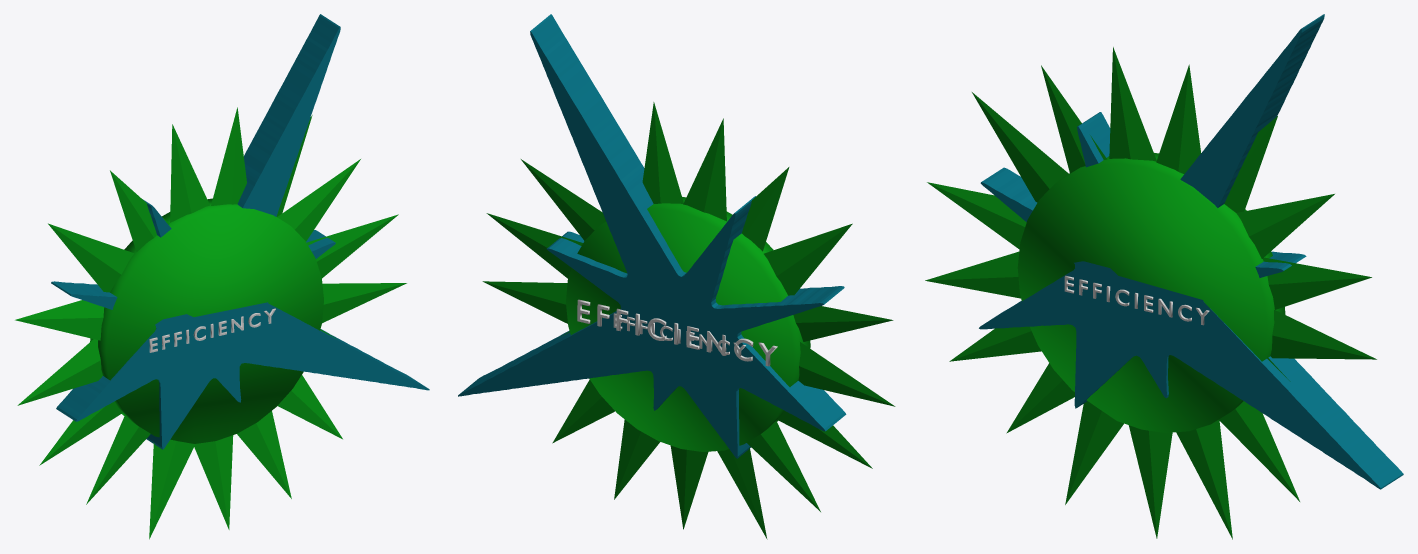
The picture shows the model from 3 angles, left to right: view 1: azimuth 30°, elevation 25°; view 2: azimuth 150°, elevation 25°; view 3: azimuth 330°, elevation 25°; orthographic projection. The views are drawn at different scales.
Parts seen in each view (by area): view 1: Circle, Plane, Efficiency Spark; view 2: Circle, Plane, Efficiency Spark.001, Efficiency Spark.002; view 3: Circle, Plane, Efficiency Spark.
Boxes of the visible parts, x1,y1,x2,y2 form: Circle: (15, 107, 406, 539); Plane: (51, 14, 429, 449); Efficiency Spark: (149, 308, 275, 352); Circle: (482, 102, 895, 539); Plane: (458, 14, 846, 458); Efficiency Spark.001: (577, 299, 777, 366); Efficiency Spark.002: (613, 313, 745, 358); Circle: (925, 47, 1376, 539); Plane: (979, 14, 1403, 489); Efficiency Spark: (1064, 275, 1209, 325).
Size of the model in its own units: 15.95 by 17.63 by 2.04.
